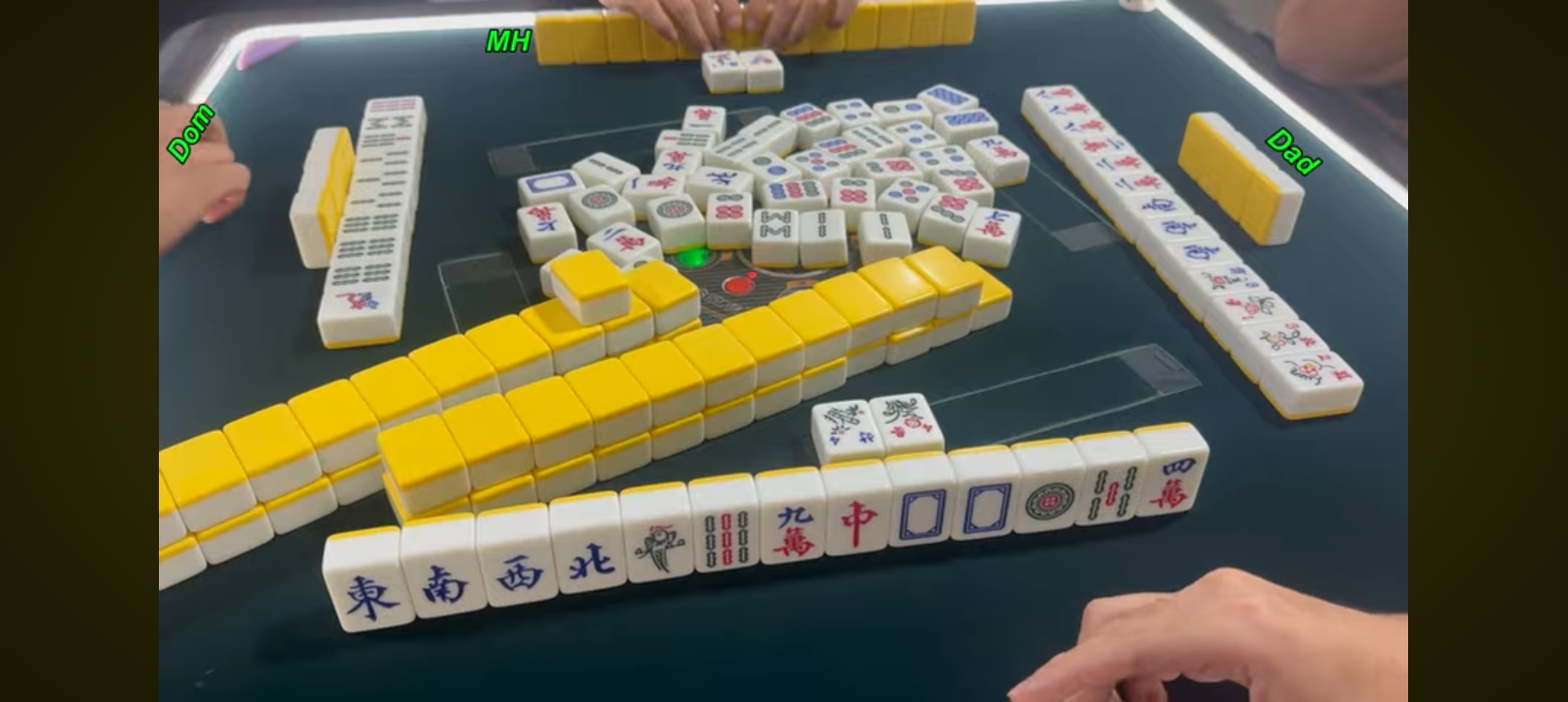TILE: (324, 569, 411, 631), (404, 556, 486, 616), (553, 527, 625, 591), (691, 507, 760, 573), (479, 547, 557, 604), (1081, 463, 1147, 525), (625, 518, 691, 579), (1144, 454, 1207, 516), (828, 492, 892, 553), (762, 502, 827, 562), (812, 399, 881, 453), (1020, 471, 1082, 531), (875, 394, 947, 445), (892, 486, 955, 544), (957, 480, 1018, 537)
